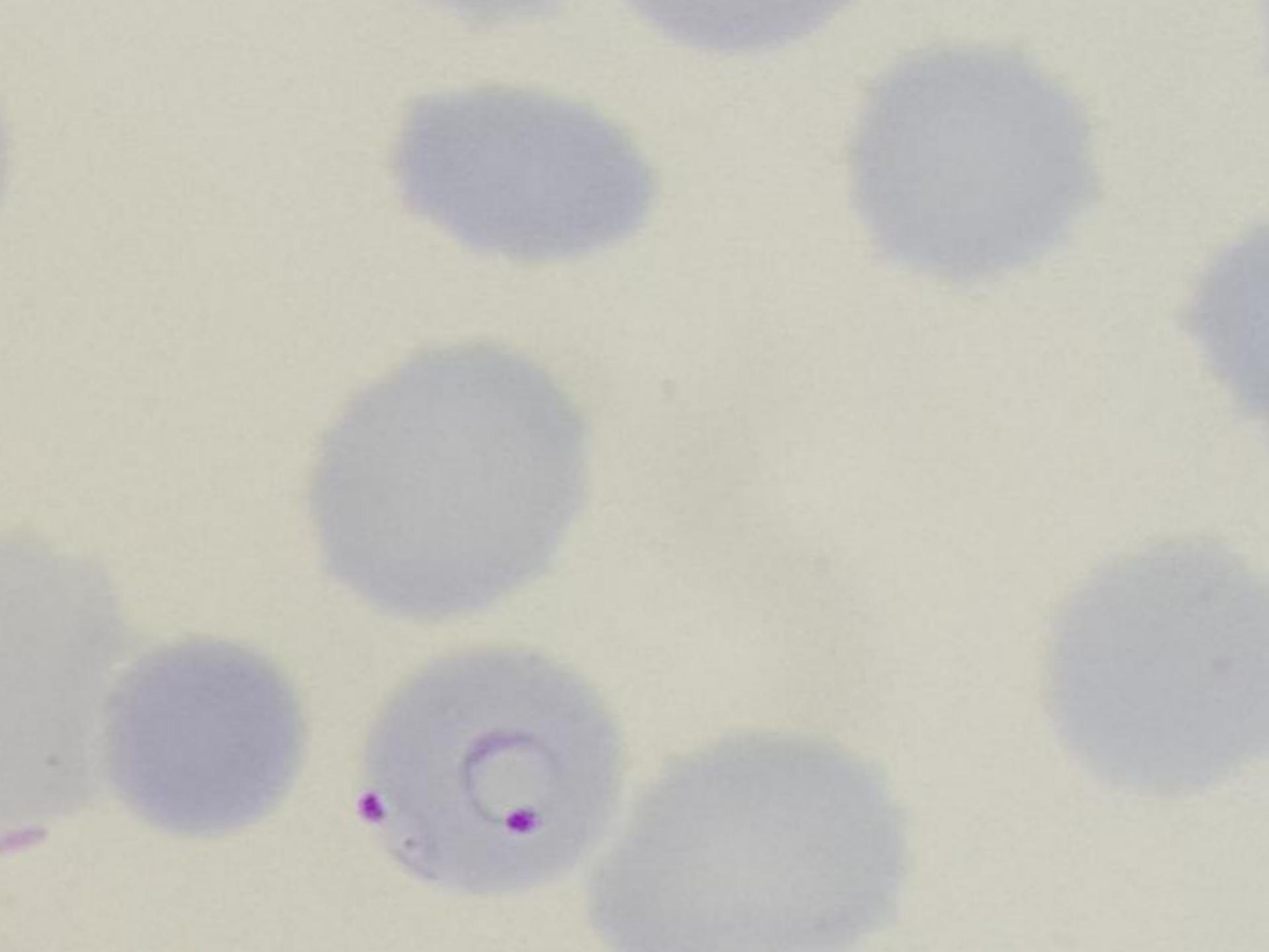Infected: (361, 641, 631, 896)
Uninfected: (580, 727, 913, 952), (309, 344, 584, 611), (858, 40, 1094, 288), (1050, 543, 1269, 801), (395, 81, 658, 259), (101, 635, 310, 836)
